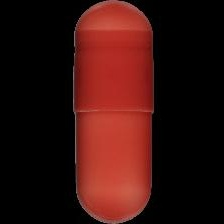43353-675: (0, 0, 224, 224)
